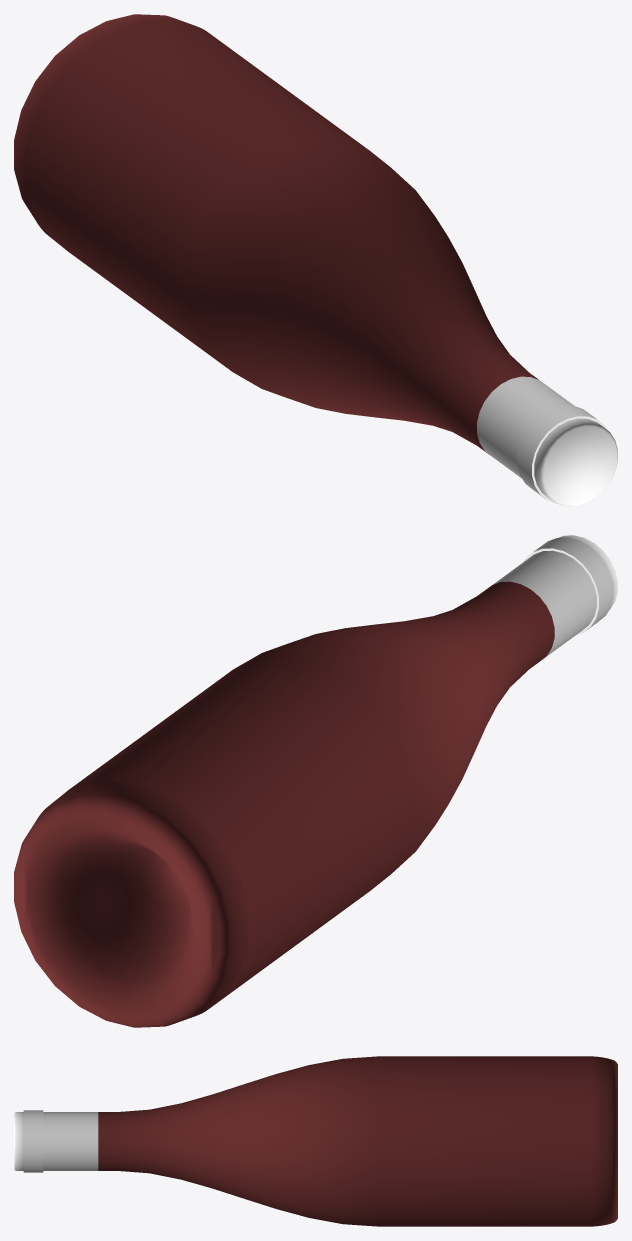
File: model_scale.obj
3 renders of one model, top to bottom at view 1: azimuth 30°, elevation 25°; view 2: azimuth 150°, elevation 25°; view 3: azimuth 270°, elevation 25°, orthographic. The views are drawn at different scales.
Parts seen in each view (by area): view 1: mesh1_mesh1-geometry; view 2: mesh1_mesh1-geometry; view 3: mesh1_mesh1-geometry.
Boxes of the visible parts, box(x1,y1,x2,y2) form: mesh1_mesh1-geometry: box(14, 14, 617, 506); mesh1_mesh1-geometry: box(14, 535, 617, 1027); mesh1_mesh1-geometry: box(14, 1056, 617, 1226).
Size of the model in its own units: 0.0401 by 0.0401 by 0.1433.
